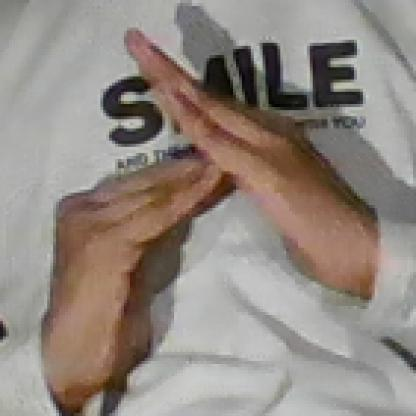Z: (39, 25, 332, 345)
